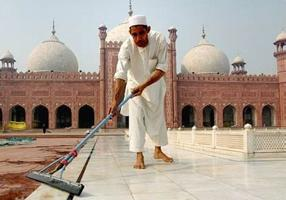person: (107, 15, 174, 170)
